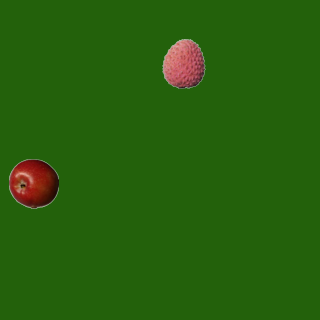Apple Braeburn: (8, 158, 58, 208)
Lychee: (158, 38, 208, 88)
